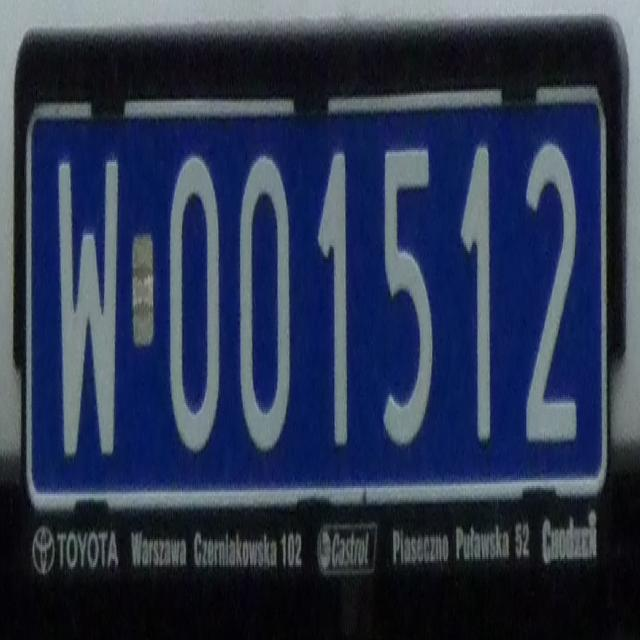pl_license_plate: (29, 109, 605, 488)
